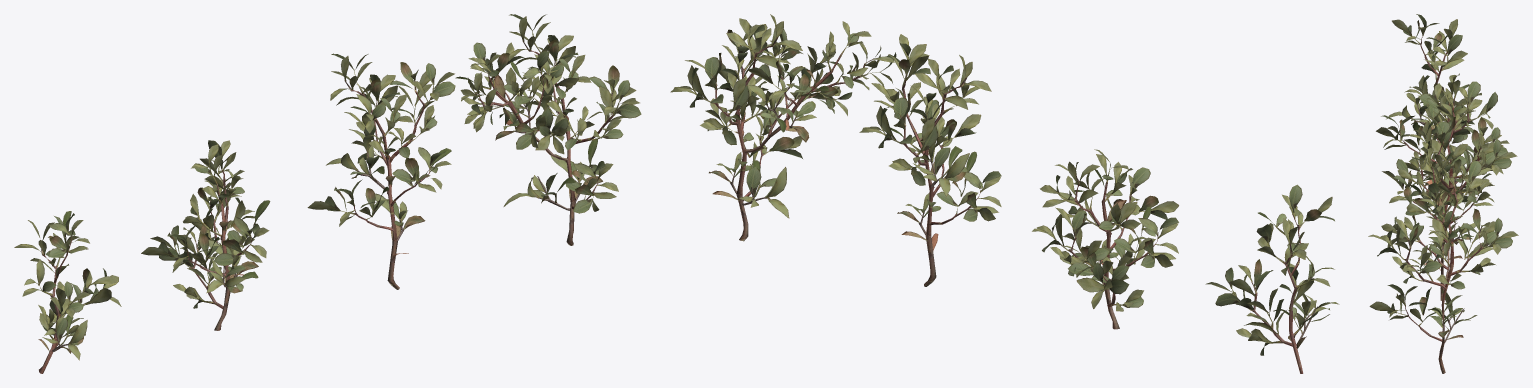
The picture shows the model from 3 angles, left to right: view 1: azimuth 30°, elevation 25°; view 2: azimuth 150°, elevation 25°; view 3: azimuth 270°, elevation 25°; orthographic projection. The views are drawn at different scales.
Visible parts, largest first — view 1: shrub_04; view 2: shrub_04; view 3: shrub_04.
Boxes of the visible parts, x1,y1,x2,y2 form: shrub_04: [14, 14, 641, 373]; shrub_04: [670, 14, 1339, 373]; shrub_04: [1368, 14, 1518, 373].
Bounding box in the file's own units: 0.5837 × 0.2192 × 0.1461.
1 material, 1 textured.
